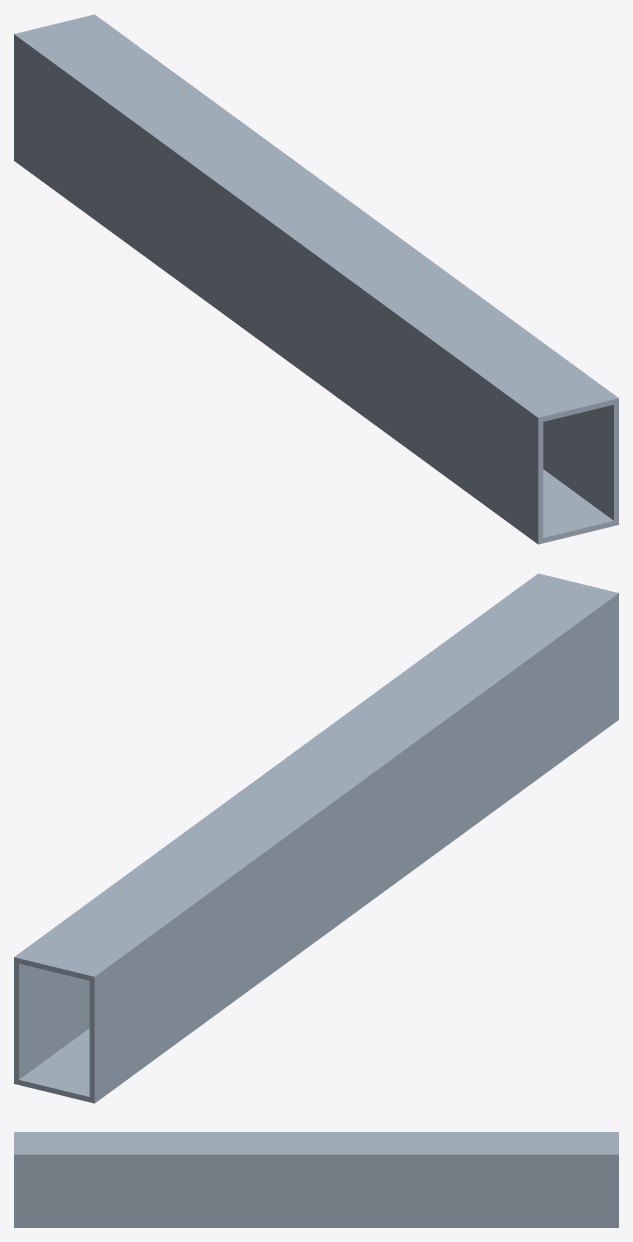
File: synthetic-profile-rhs-folded.glb
3 views of the same model, one above another, from view 1: azimuth 30°, elevation 25°; view 2: azimuth 150°, elevation 25°; view 3: azimuth 270°, elevation 25° (orthographic). The views are drawn at different scales.
Visible parts, largest first — view 1: world; view 2: world; view 3: world.
Part boxes in pixels (x1,y1,x2,y2): world: [14, 14, 618, 544]; world: [14, 573, 618, 1103]; world: [14, 1132, 618, 1227].
Bounding box in the file's own units: 80 × 120 × 900.
